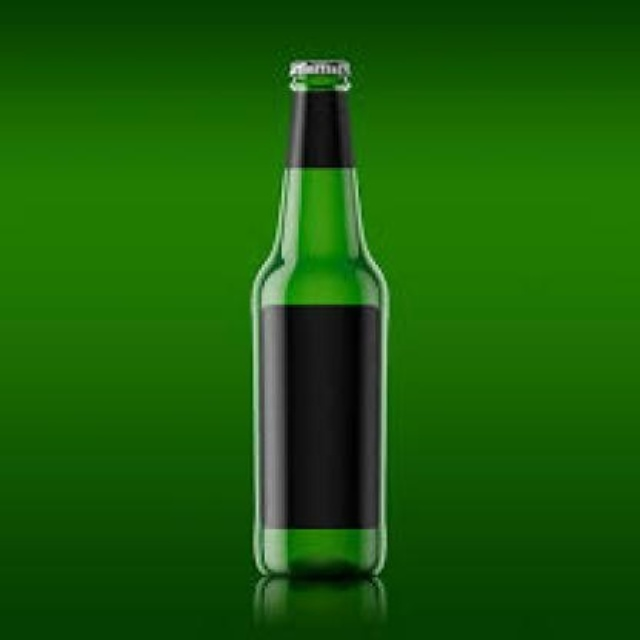trash: (252, 60, 386, 575)
